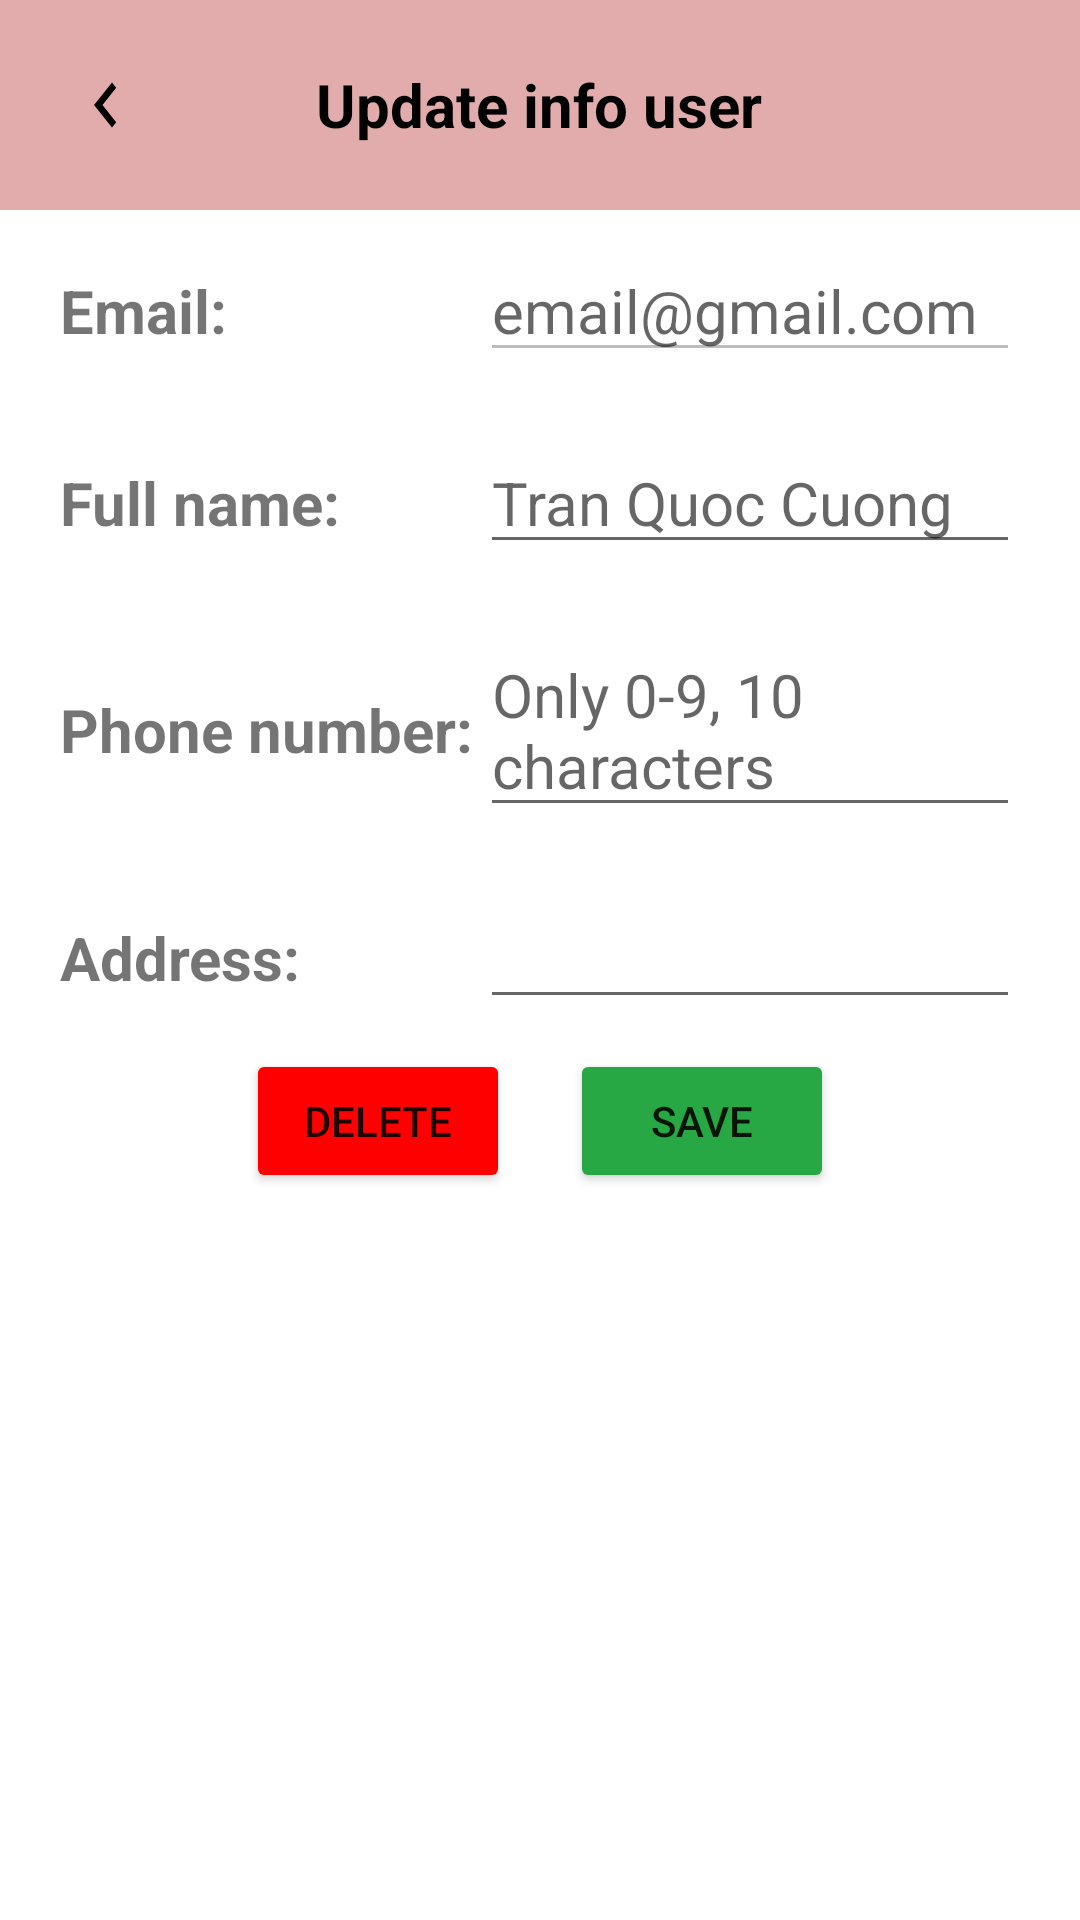

Icon click points for this 1080 × 1920 phone screenshot, format (x=x, y=y):
chevron left: (x=105, y=105)
